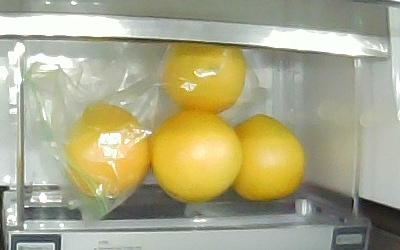grapefruit: (150, 110, 242, 202), (233, 114, 304, 201)
grapefruit_vinyl: (63, 102, 149, 196), (159, 43, 246, 115)
